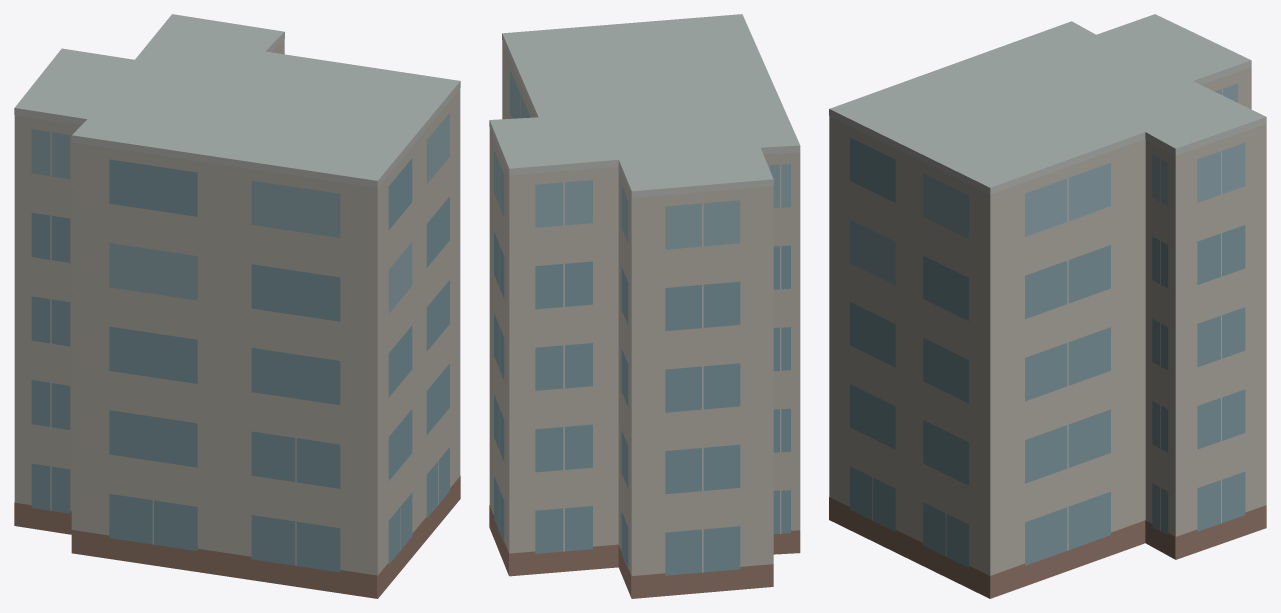
File: survey-upis-32635197.glb
3 views of the same model, side by side, from view 1: azimuth 30°, elevation 25°; view 2: azimuth 150°, elevation 25°; view 3: azimuth 270°, elevation 25° (orthographic). The views are drawn at different scales.
Visible parts, largest first — view 1: survey-upis-32635197.tmp; view 2: survey-upis-32635197.tmp; view 3: survey-upis-32635197.tmp.
Boxes of the visible parts, bbox=[...] form: survey-upis-32635197.tmp: bbox=[14, 14, 460, 598]; survey-upis-32635197.tmp: bbox=[489, 14, 800, 598]; survey-upis-32635197.tmp: bbox=[829, 14, 1266, 598].
Size of the model in its own units: 13.25 by 14.6 by 14.09.
